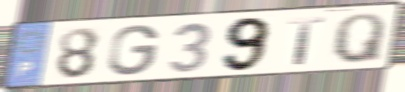3: (167, 20, 215, 75)
8: (55, 26, 101, 80)
9: (220, 16, 275, 73)
G: (106, 23, 162, 78)
Q: (330, 11, 387, 65)
T: (286, 15, 328, 66)
